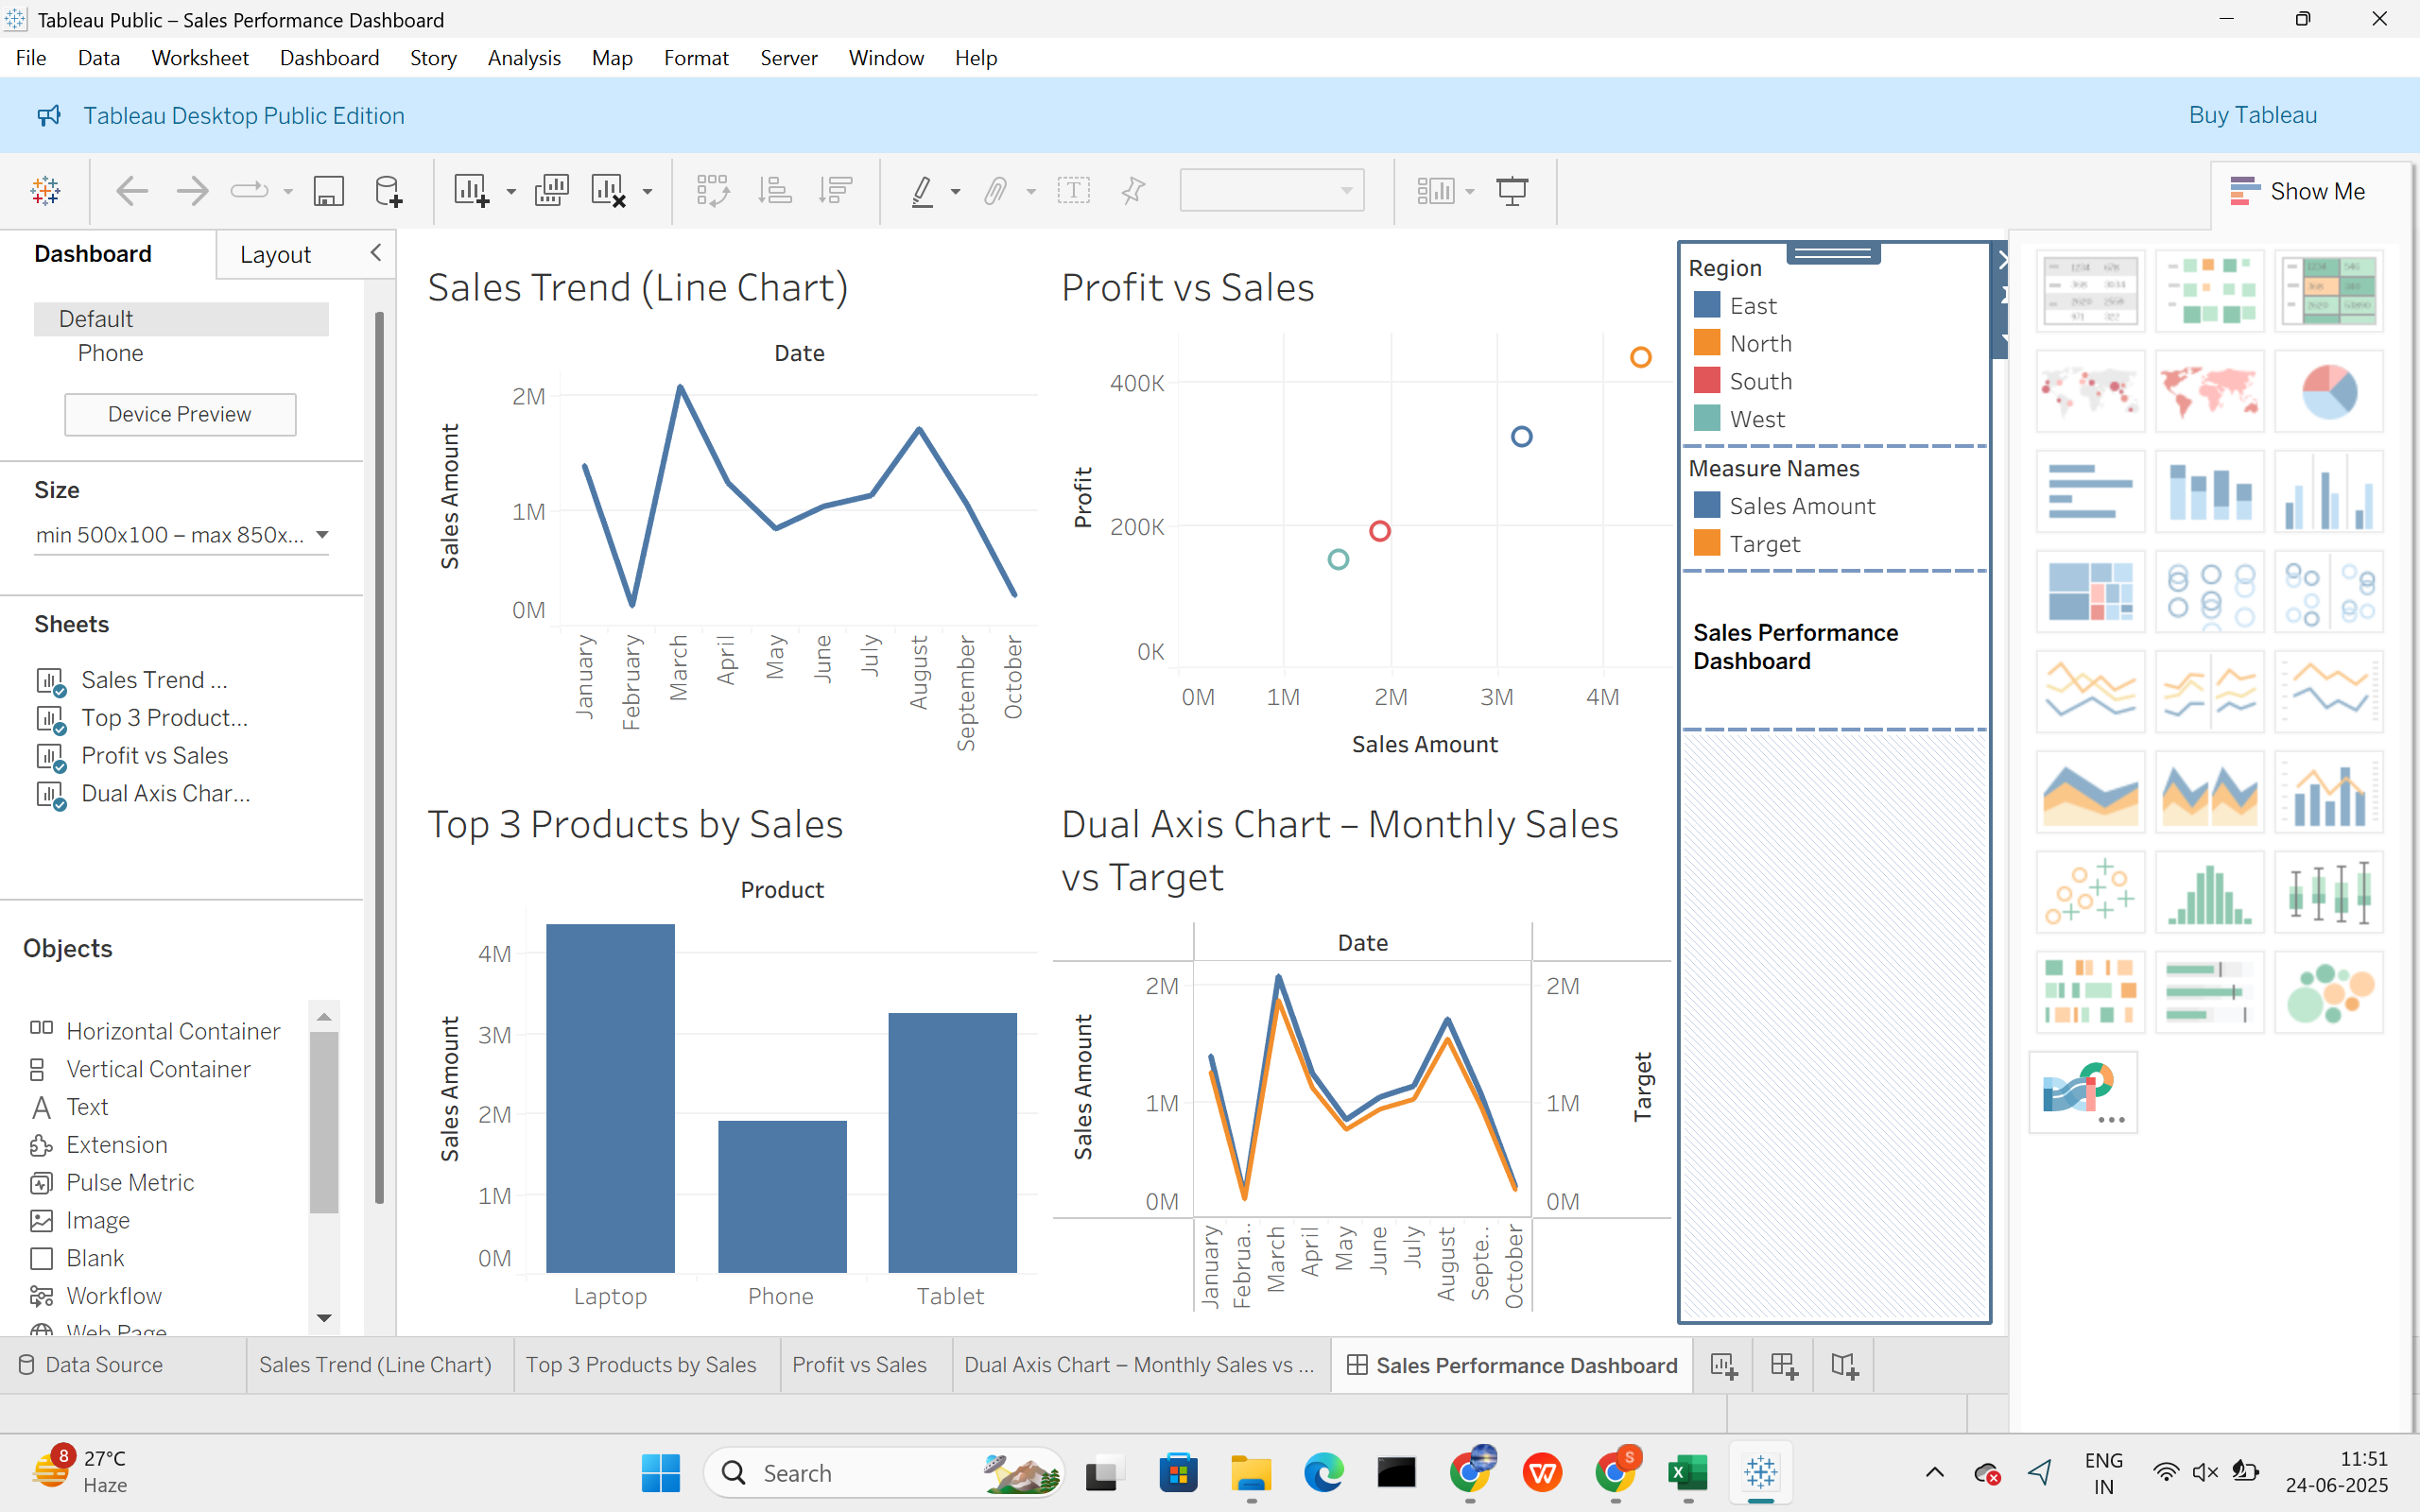

What the dashboard file says about the page in this screenshot:
{"tool":"tableau","page":{"name":"Sales Performance Dashboard","canvas":[1000,1000],"units":"permille","ordinal":0},"visuals":[{"type":"worksheet","title":"Sales Trend (Line Chart)","mark":"Automatic","rows":["Sales Amount"],"cols":["Date"],"box":[9.4,13.7,394.7,484.4]},{"type":"worksheet","title":"Profit vs Sales ","mark":"Automatic","rows":["Calculation_640918545587634176"],"cols":["Sales Amount"],"box":[404.1,13.7,394.7,484.4]},{"type":"legend","title":"Profit vs Sales ","param":"[federated.1sz2xsc131q6id160mc2q1r9y7fd].[none:Region:nk]","box":[798.8,13.7,191.8,180.9]},{"type":"legend","title":"Dual Axis Chart – Monthly Sales vs Target","param":"[federated.1sz2xsc131q6id160mc2q1r9y7fd].[:Measure Names]","box":[798.8,194.5,191.8,112.6]},{"type":"text","box":[798.8,307.2,191.8,143.3]},{"type":"worksheet","title":"Top 3 Products by Sales","mark":"Automatic","rows":["Sales Amount"],"cols":["Product"],"box":[9.4,498,394.7,488.3]},{"type":"worksheet","title":"Dual Axis Chart – Monthly Sales vs Target","mark":"Automatic","rows":["Sales Amount","Target"],"cols":["Date"],"box":[404.1,498,394.7,488.3]}]}

Visuals, with their boxes on the dashboard's canvas, which has no fixed pixel size, in thousandths of its width and height (x1, y1, x2, y2). These are canvas units, not pixel positions in the 2420x1512 screenshot, which may show the page scaled, cropped or inside an application window:
"Sales Trend (Line Chart)" worksheet: bbox=(9, 14, 404, 498)
"Profit vs Sales " worksheet: bbox=(404, 14, 799, 498)
"Profit vs Sales " legend: bbox=(799, 14, 991, 195)
"Dual Axis Chart – Monthly Sales vs Target" legend: bbox=(799, 194, 991, 307)
text: bbox=(799, 307, 991, 450)
"Top 3 Products by Sales" worksheet: bbox=(9, 498, 404, 986)
"Dual Axis Chart – Monthly Sales vs Target" worksheet: bbox=(404, 498, 799, 986)
